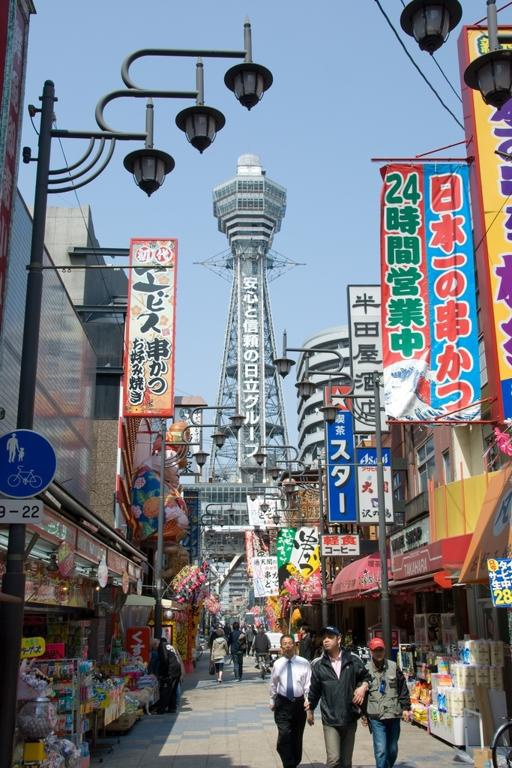non-vehicle: (490, 715, 512, 767), (256, 654, 270, 680)
